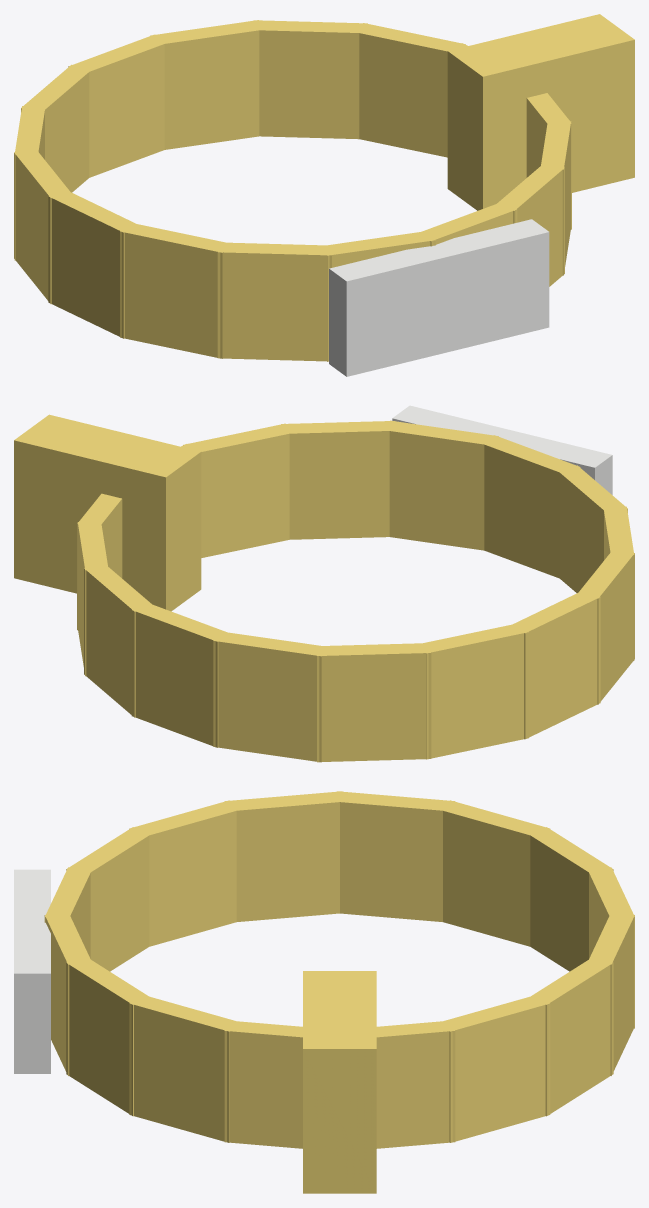
File: HJ_PulseraTodoIncluido.fbx
3 renders of one model, top to bottom at view 1: azimuth 30°, elevation 25°; view 2: azimuth 150°, elevation 25°; view 3: azimuth 270°, elevation 25°, orthographic. The views are drawn at different scales.
Visible parts, largest first — view 1: HJ_PulseraTodoIncluido; view 2: HJ_PulseraTodoIncluido; view 3: HJ_PulseraTodoIncluido.
Boxes of the visible parts, box(x1,y1,x2,y2) form: HJ_PulseraTodoIncluido: box(14, 14, 634, 376); HJ_PulseraTodoIncluido: box(14, 405, 634, 762); HJ_PulseraTodoIncluido: box(14, 791, 634, 1193).
Size of the model in its own units: 0.112 by 0.026 by 0.101.
